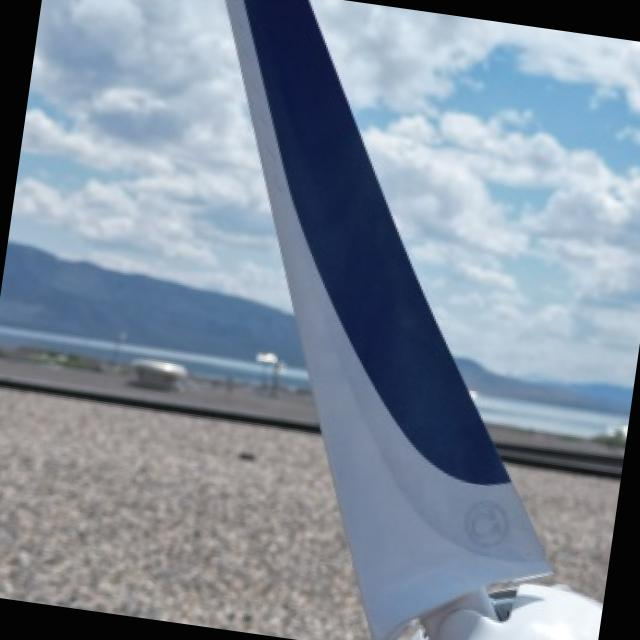healthy: (229, 0, 603, 640), (0, 520, 184, 606)
